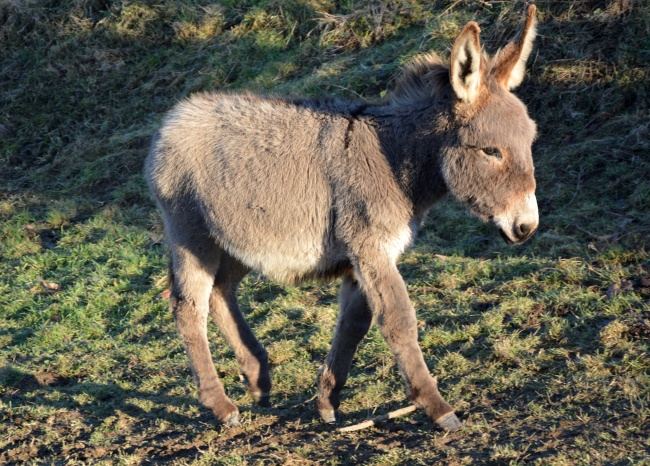background: (127, 3, 561, 466)
